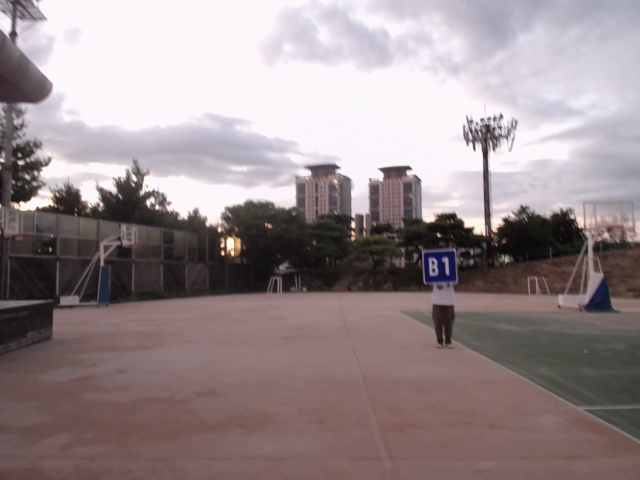delivery_b1: (423, 250, 458, 284)
